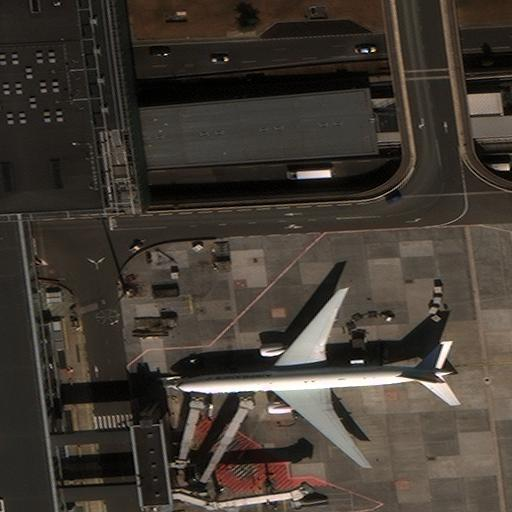Large Civil Transport: (173, 290, 453, 468)
